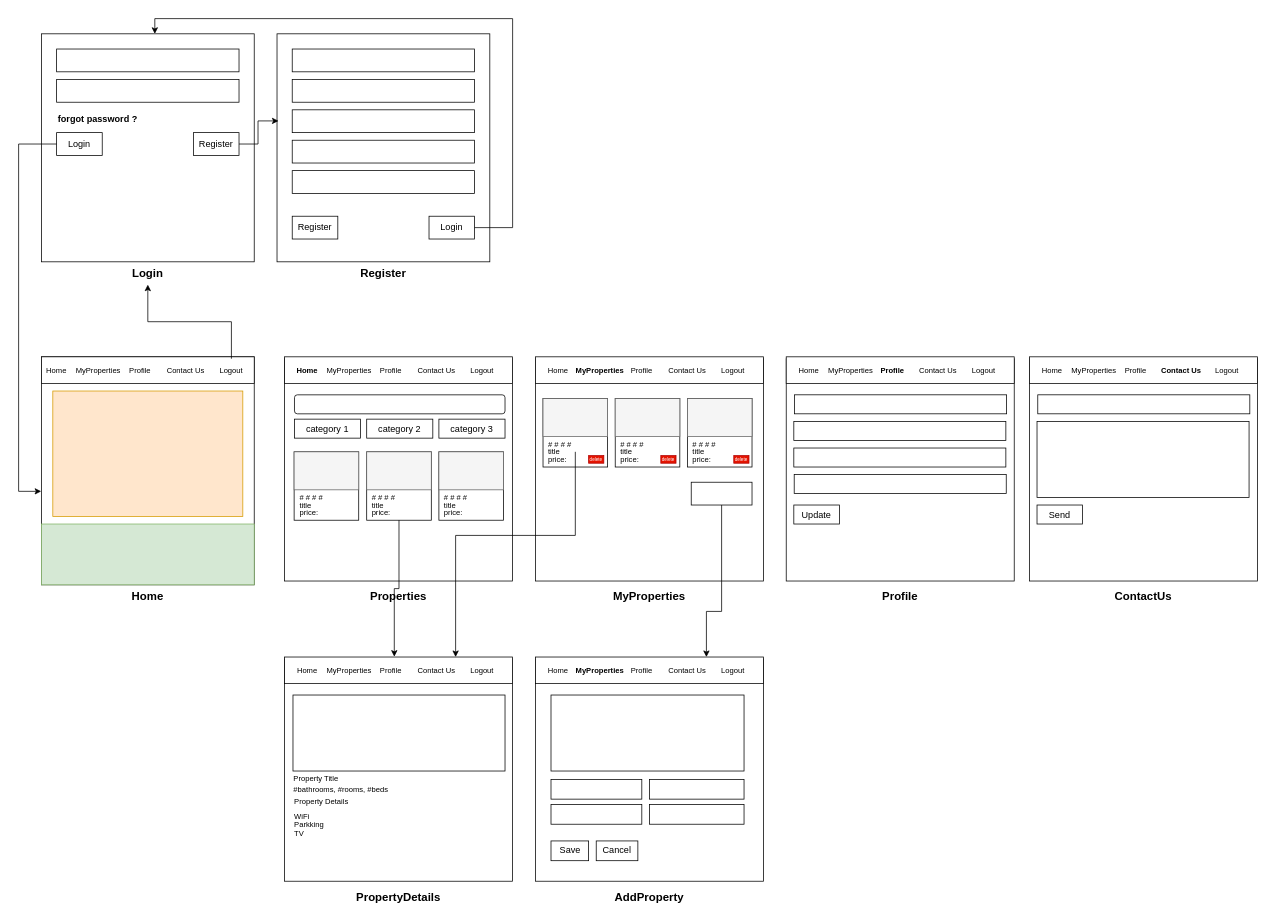
The diagram is 1271 pixels wide and 921 high, and some of its shapes have lost their labels. The box of each missing label's shape, as (x1, y1, x2, y2) in pixels:
<Outlet />: (52, 390, 243, 516)
Add Property: (690, 481, 752, 505)
search properties: (294, 394, 505, 414)
